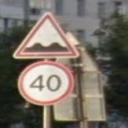speed_limit_40: (16, 60, 76, 108)
